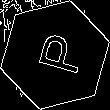P_W: (26, 30, 84, 80)
